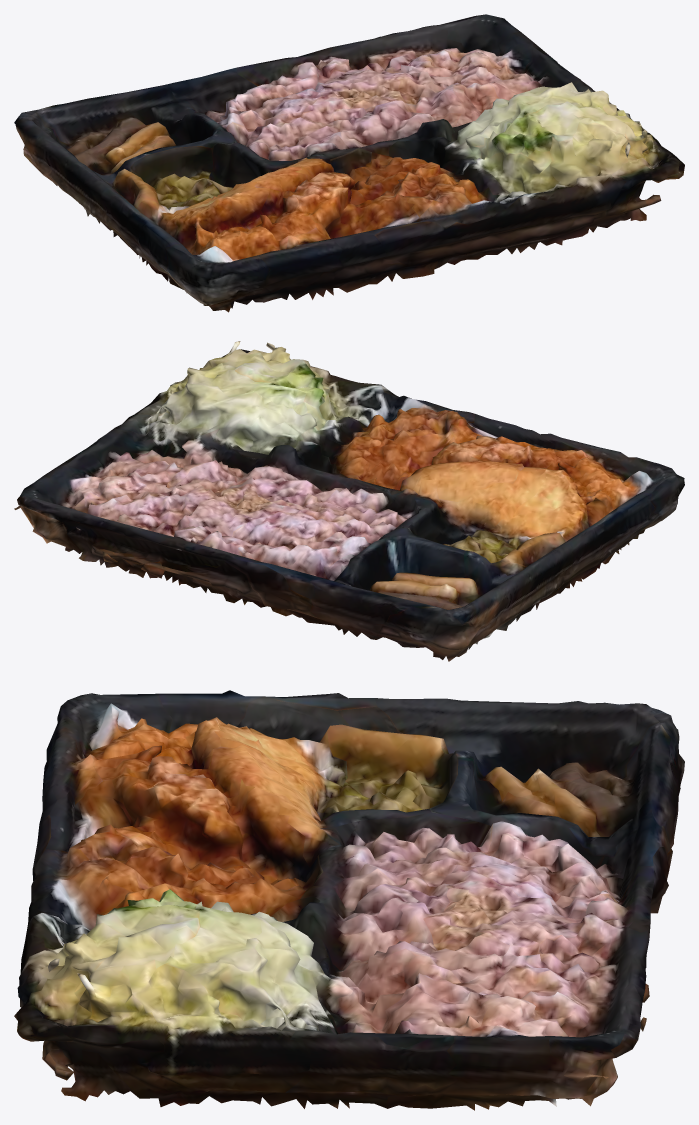
Rendered from katsu.glb.
3 views of the same model, one above another, from view 1: azimuth 30°, elevation 25°; view 2: azimuth 150°, elevation 25°; view 3: azimuth 270°, elevation 25° (orthographic). The views are drawn at different scales.
Visible parts, largest first — view 1: Object_2; view 2: Object_2; view 3: Object_2.
Part boxes in pixels (bbox=[...]): Object_2: bbox=[14, 14, 684, 312]; Object_2: bbox=[14, 341, 684, 661]; Object_2: bbox=[14, 690, 684, 1110].
Bounding box in the file's own units: 0.22 × 0.0425 × 0.1751.
Materials: 1 (1 with a texture image).
